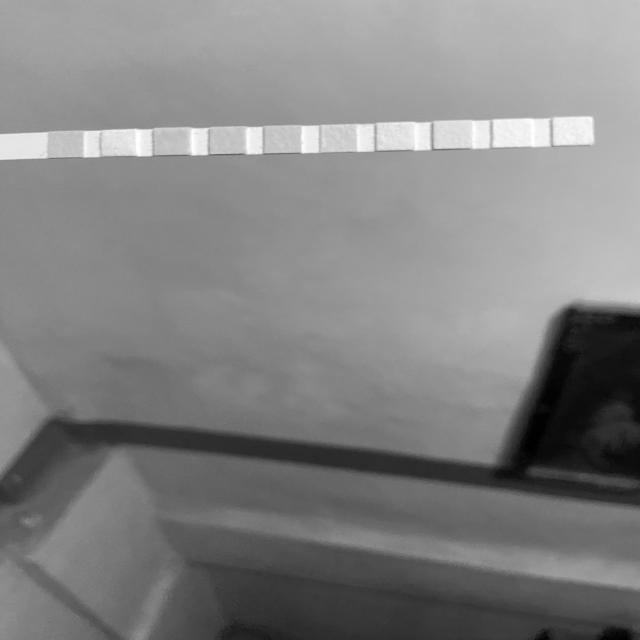Bilirubin: (103, 130, 134, 156)
Blood: (265, 126, 301, 153)
Glucose: (49, 132, 83, 157)
Ketone: (155, 129, 189, 155)
Leukocytes: (554, 118, 592, 145)
Nitrite: (494, 120, 530, 146)
Protein: (377, 123, 414, 150)
SpGravity: (210, 127, 246, 154)
Urobilinogen: (434, 121, 472, 149)
background: (0, 0, 640, 640)
pH: (322, 126, 357, 152)
strip: (1, 117, 595, 161)
